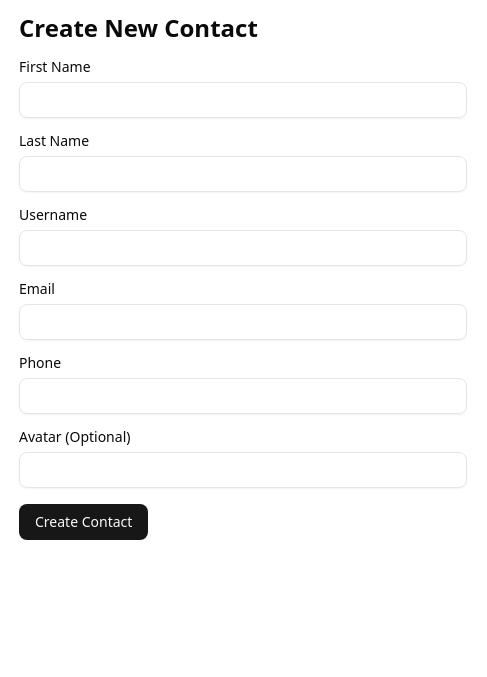
Test: ContactForm shows validation errors on submit
# submit the form without filling any fields
Click the button "Create Contact".
click(84, 522)  # box [19, 504, 148, 540]
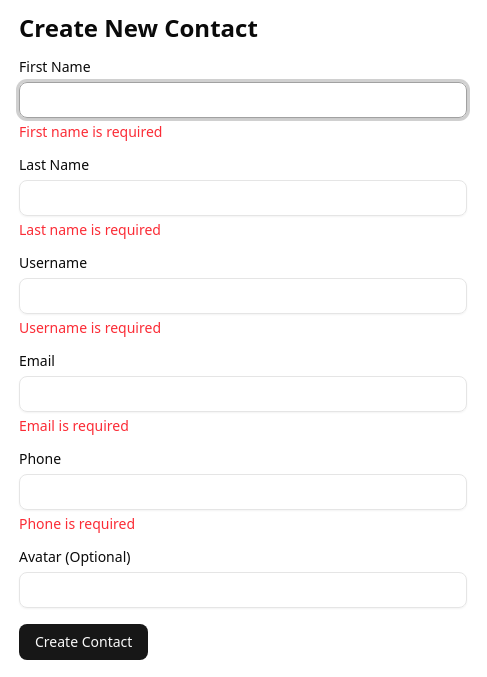
Expected: the text "First name is required" is shown, [19, 122, 162, 141]
Expected: the text "Last name is required" is shown, [19, 220, 161, 239]
